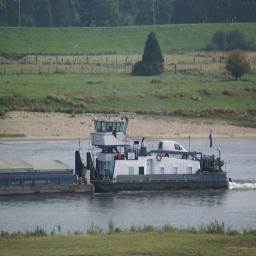tugboat: (74, 109, 234, 200)
